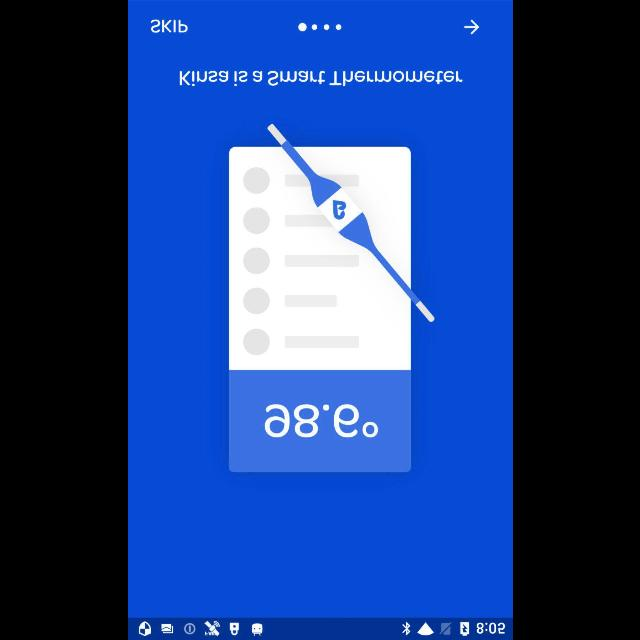icon: (463, 19, 479, 35)
image: (228, 124, 434, 472)
pageindicator: (297, 22, 341, 32)
text: (180, 70, 462, 86), (150, 19, 188, 33)
uppertaskbar: (128, 617, 512, 639)
